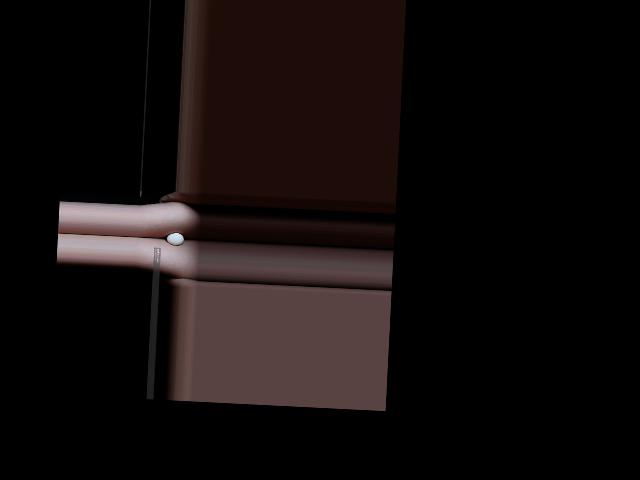egg: (166, 232, 183, 246)
